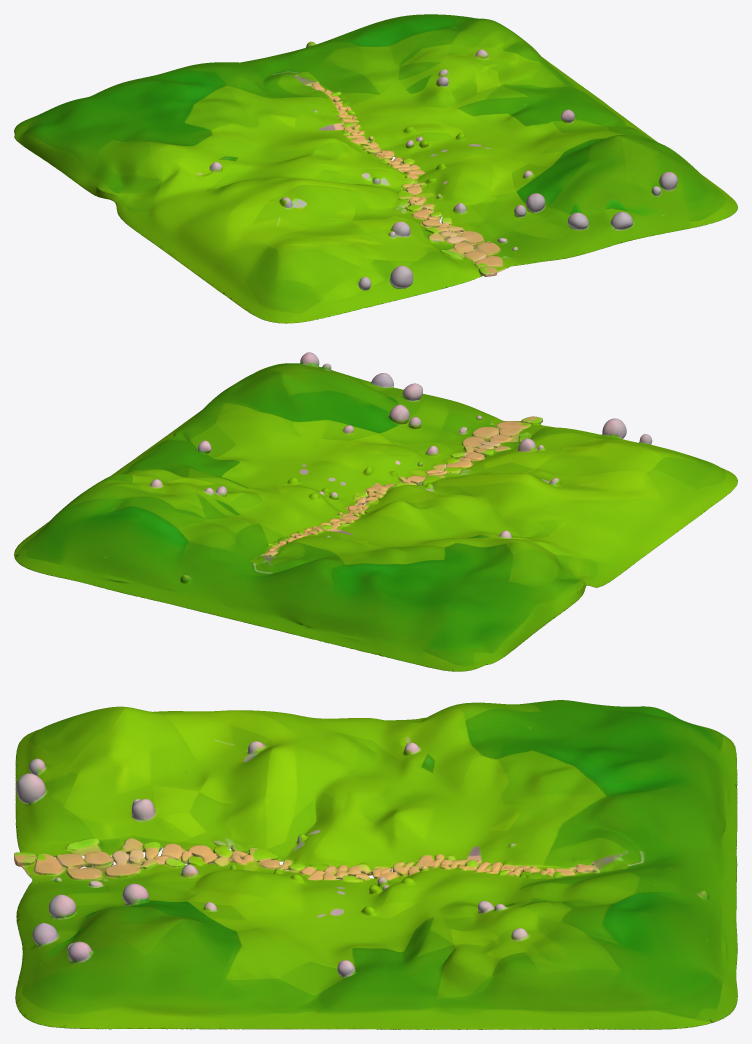
The model's file is 地形模型.glb.
3 renders of one model, top to bottom at view 1: azimuth 30°, elevation 25°; view 2: azimuth 150°, elevation 25°; view 3: azimuth 270°, elevation 25°, orthographic. The views are drawn at different scales.
Size of the model in its own units: 1.9 by 0.1865 by 1.9.
1 material, 1 textured.
